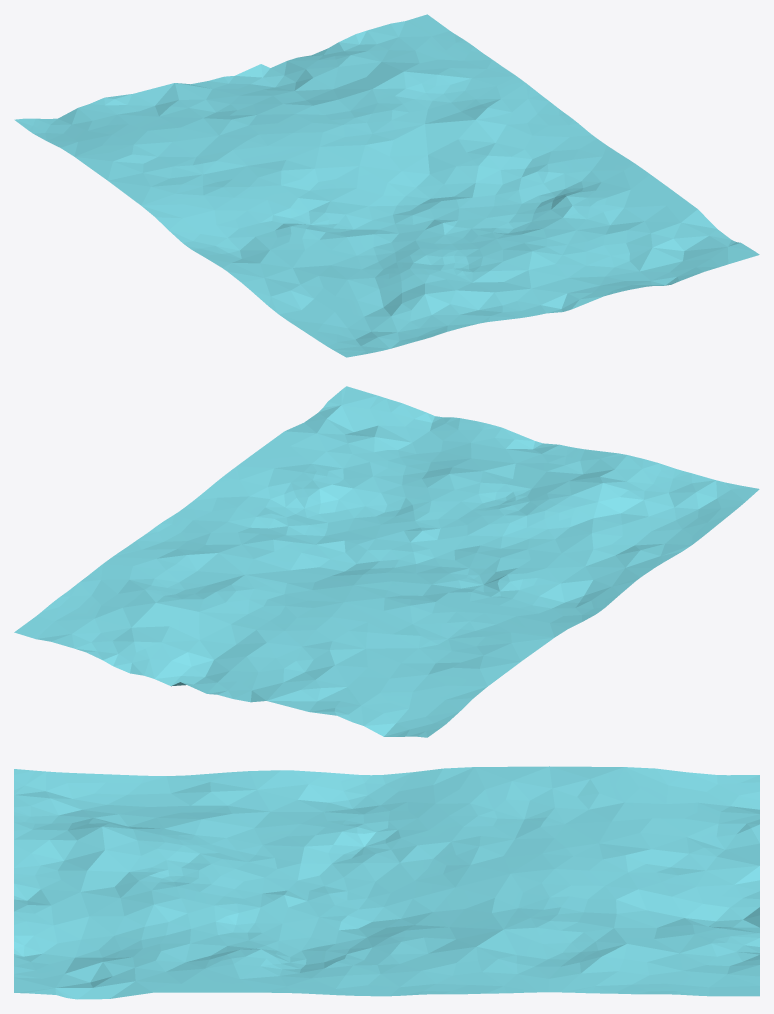
File: ground_009.fbx
The picture shows the model from 3 angles, top to bottom: view 1: azimuth 30°, elevation 25°; view 2: azimuth 150°, elevation 25°; view 3: azimuth 270°, elevation 25°; orthographic projection. The views are drawn at different scales.
Visible parts, largest first — view 1: ground.009; view 2: ground.009; view 3: ground.009.
Boxes of the visible parts, x1,y1,x2,y2 form: ground.009: (14,14,759,357); ground.009: (14,386,759,737); ground.009: (14,766,759,999).
Bounding box in the file's own units: 2542 × 140 × 3540.
Materials: 1 (1 with a texture image).
